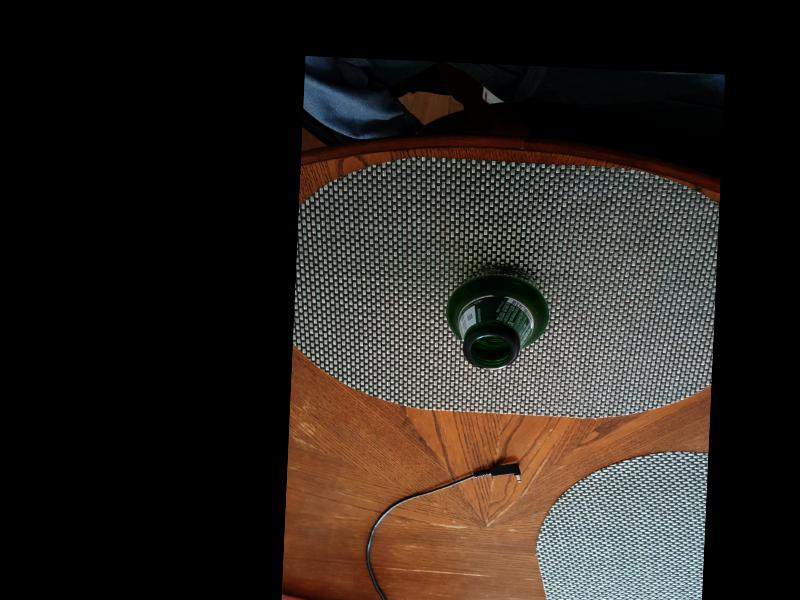Beer: (449, 263, 546, 370)
